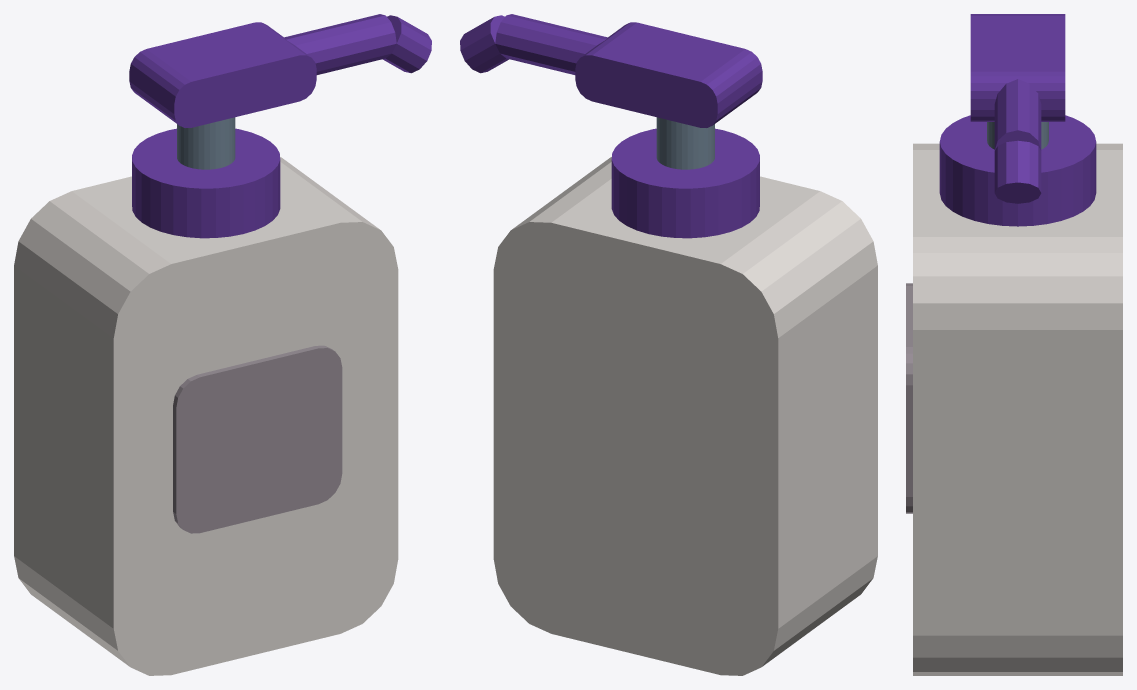
The model's file is pump.glb.
3 views of the same model, side by side, from view 1: azimuth 30°, elevation 25°; view 2: azimuth 150°, elevation 25°; view 3: azimuth 270°, elevation 25° (orthographic). The views are drawn at different scales.
Visible parts, largest first — view 1: bottle body, label, pump head, neck, spout0, piston, spout1; view 2: bottle body, pump head, neck, spout0, piston, spout1; view 3: bottle body, neck, pump head, spout1, spout0, label, piston.
Part boxes in pixels (left/top/right/bottom): bottle body: left=14, top=157, right=398, bottom=675; label: left=173, top=345, right=342, bottom=533; pump head: left=129, top=22, right=316, bottom=127; neck: left=132, top=128, right=280, bottom=238; spout0: left=284, top=14, right=396, bottom=74; piston: left=177, top=117, right=235, bottom=169; spout1: left=383, top=15, right=431, bottom=73; bottle body: left=493, top=157, right=877, bottom=675; pump head: left=575, top=22, right=762, bottom=127; neck: left=611, top=128, right=759, bottom=238; spout0: left=495, top=14, right=607, bottom=74; piston: left=656, top=117, right=714, bottom=169; spout1: left=460, top=15, right=508, bottom=73; bottle body: left=913, top=143, right=1122, bottom=675; neck: left=939, top=115, right=1096, bottom=226; pump head: left=970, top=14, right=1065, bottom=121; spout1: left=994, top=140, right=1041, bottom=203; spout0: left=994, top=79, right=1041, bottom=150; label: left=906, top=283, right=912, bottom=513; piston: left=987, top=122, right=1048, bottom=149.
Size of the model in its own units: 1.07 by 1.58 by 0.527.
